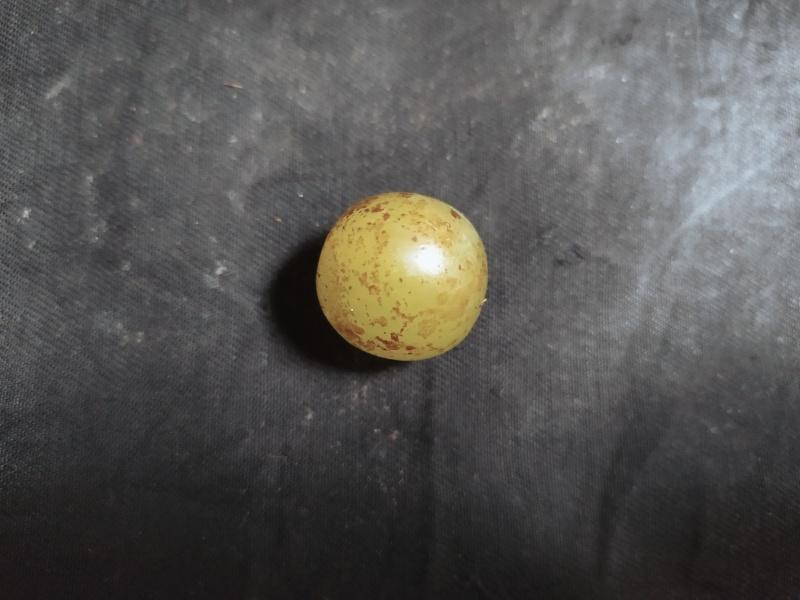Grape Rotten: (315, 189, 491, 365)
